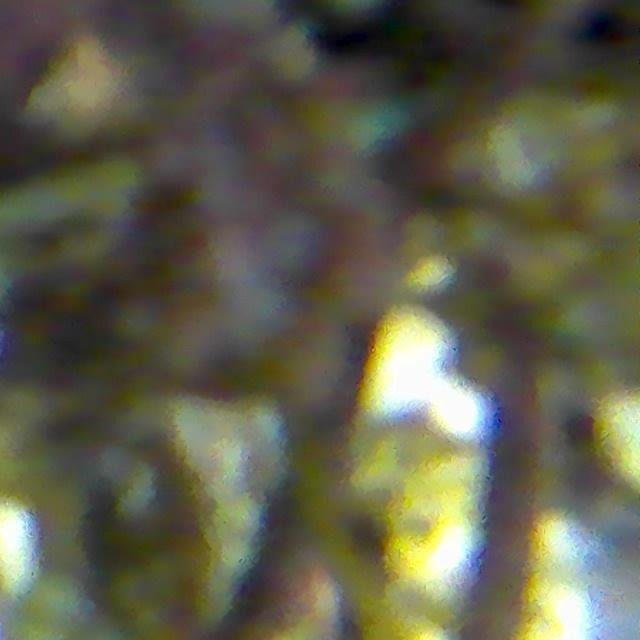SeaGrape: (476, 93, 580, 203), (553, 282, 635, 360), (334, 91, 410, 157), (577, 170, 639, 237)
